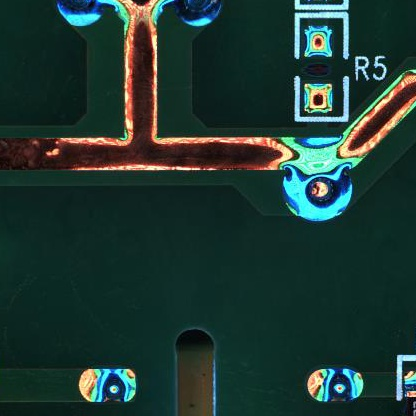spot: (283, 153, 354, 222), (78, 366, 137, 402), (306, 366, 365, 401)
